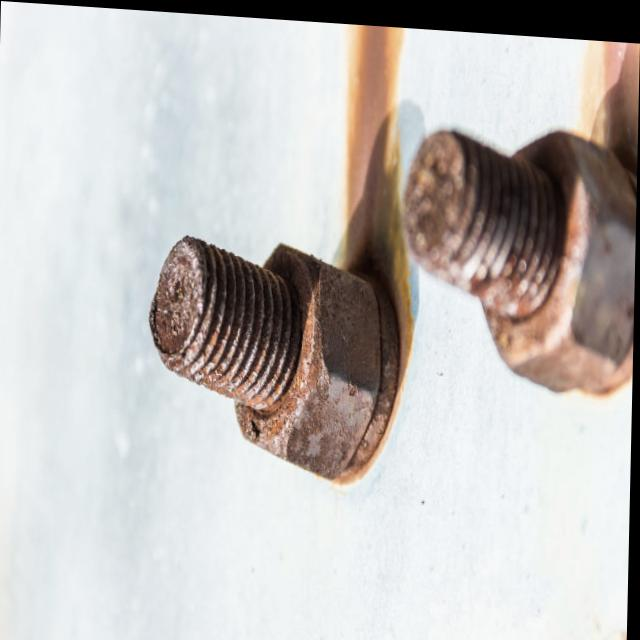Rusty bolt: (472, 117, 637, 387), (201, 235, 382, 476)
